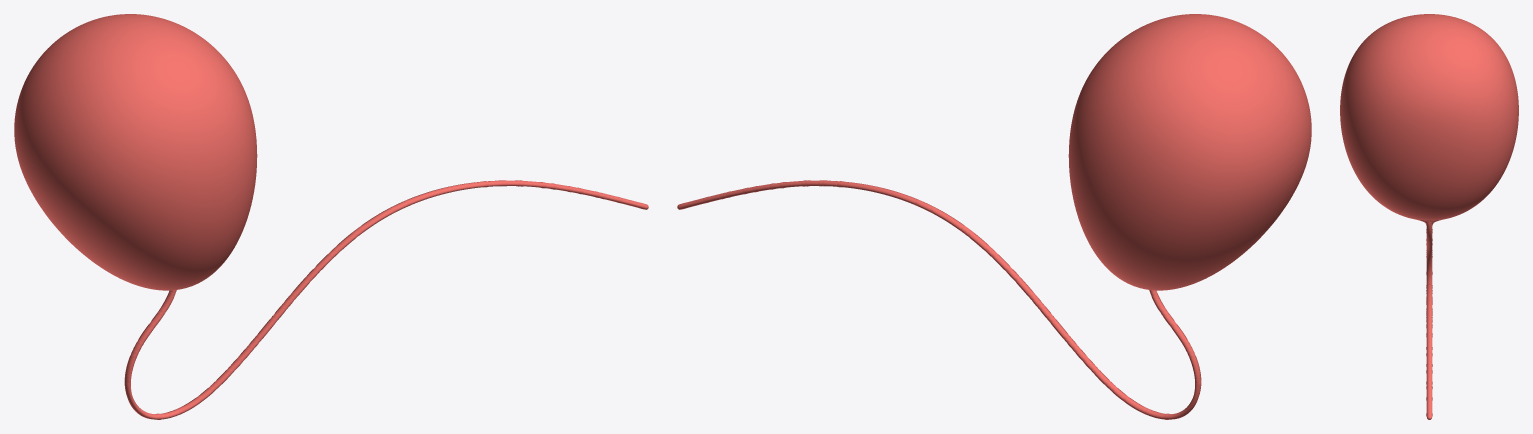
File: PK_Balloon_w_String.gltf
3 views of the same model, side by side, from view 1: azimuth 30°, elevation 25°; view 2: azimuth 150°, elevation 25°; view 3: azimuth 270°, elevation 25° (orthographic). The views are drawn at different scales.
Size of the model in its own units: 0.08 by 0.0497 by 0.0282.
